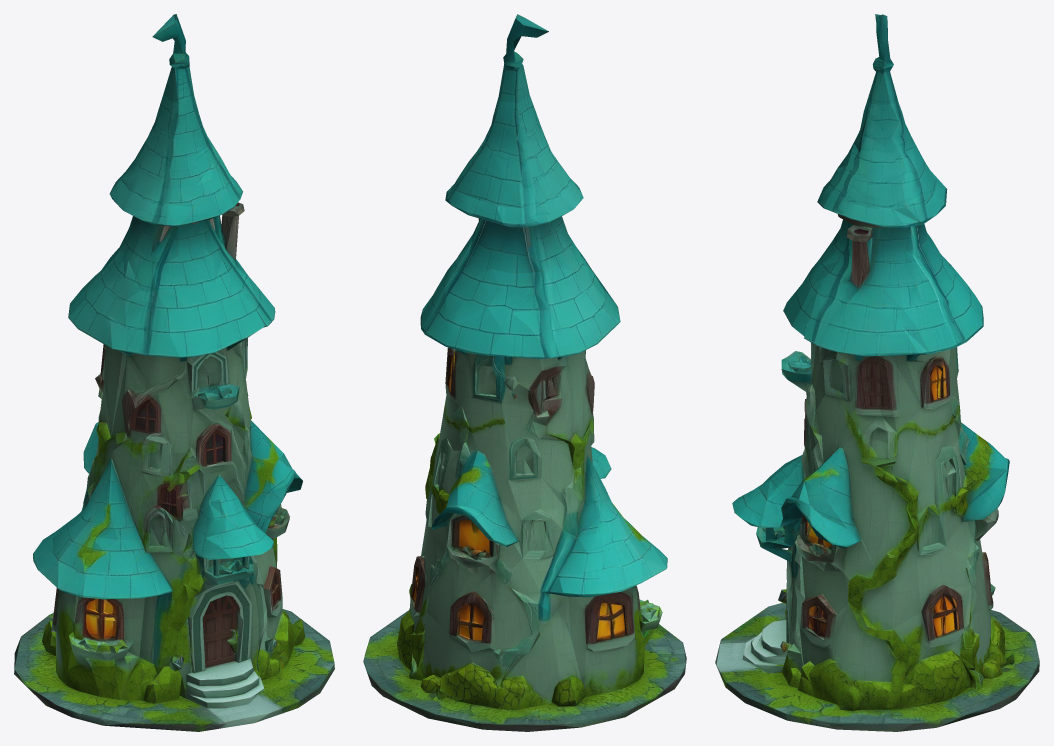
File: home.glb
3 renders of one model, left to right at view 1: azimuth 30°, elevation 25°; view 2: azimuth 150°, elevation 25°; view 3: azimuth 270°, elevation 25°, orthographic.
Size of the model in its own units: 0.8492 by 1.9 by 0.8563.
1 material, 1 textured.
